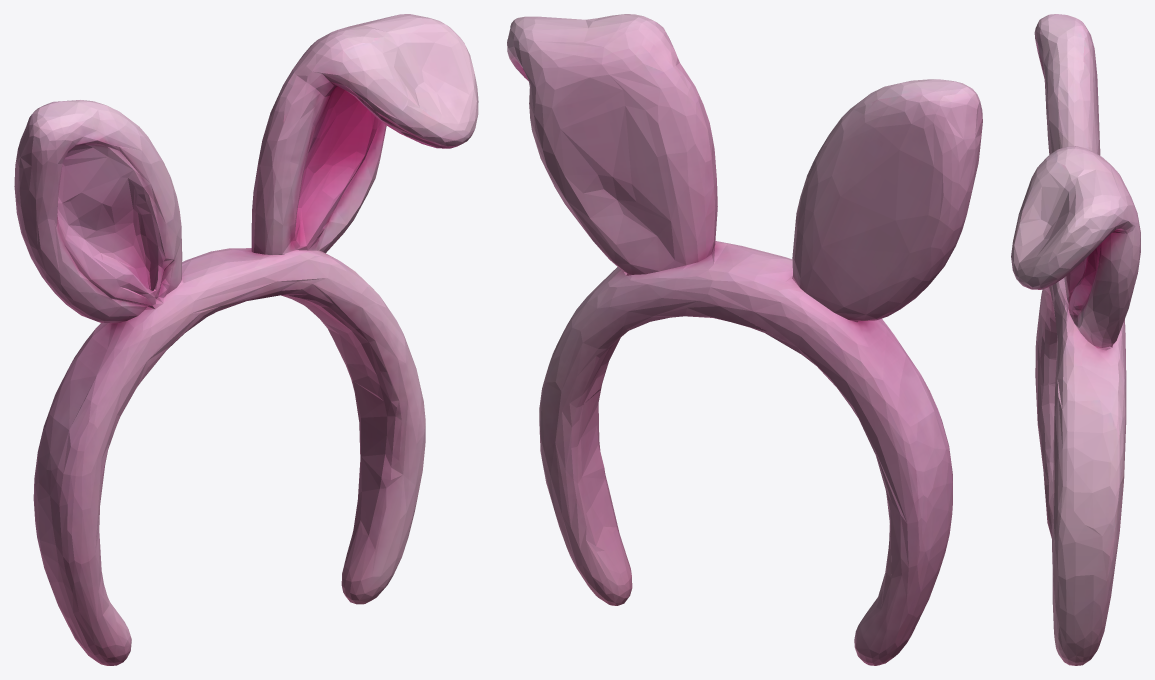
The model's file is bunny_ear_headband.glb.
3 views of the same model, side by side, from view 1: azimuth 30°, elevation 25°; view 2: azimuth 150°, elevation 25°; view 3: azimuth 270°, elevation 25° (orthographic). The views are drawn at different scales.
Parts seen in each view (by area): view 1: geometry_0; view 2: geometry_0; view 3: geometry_0.
Boxes of the visible parts, left/top/right/bottom form: geometry_0: left=14, top=14, right=478, bottom=665; geometry_0: left=507, top=14, right=982, bottom=665; geometry_0: left=1011, top=14, right=1140, bottom=665.
Bounding box in the file's own units: 0.4914 × 0.6 × 0.1386.
1 material, 1 textured.
